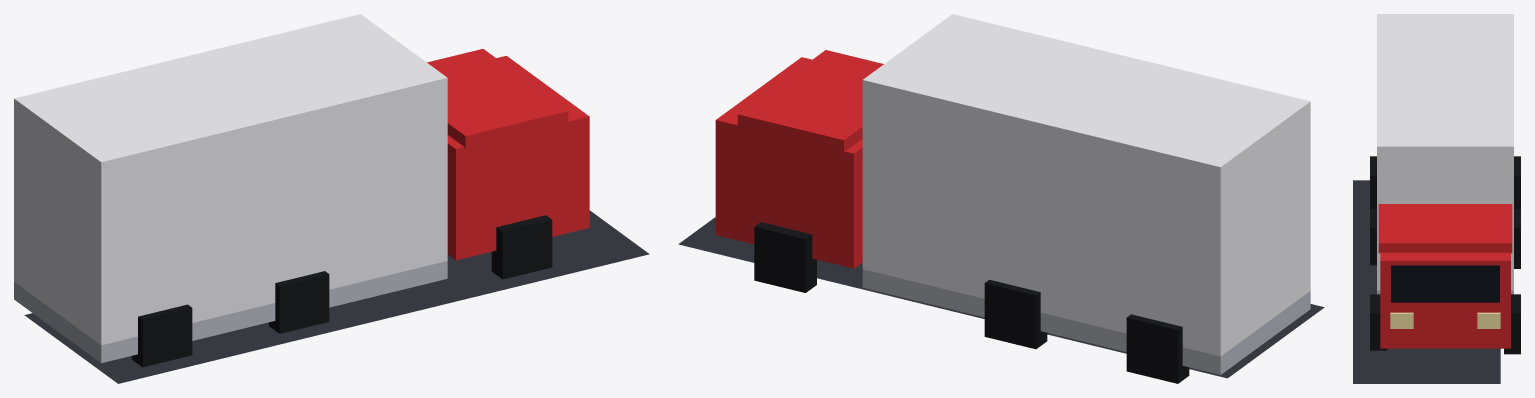
File: truck.obj
The picture shows the model from 3 angles, left to right: view 1: azimuth 30°, elevation 25°; view 2: azimuth 150°, elevation 25°; view 3: azimuth 270°, elevation 25°; orthographic projection. The views are drawn at different scales.
Size of the model in its own units: 3.11 by 1.2 by 1.08.
